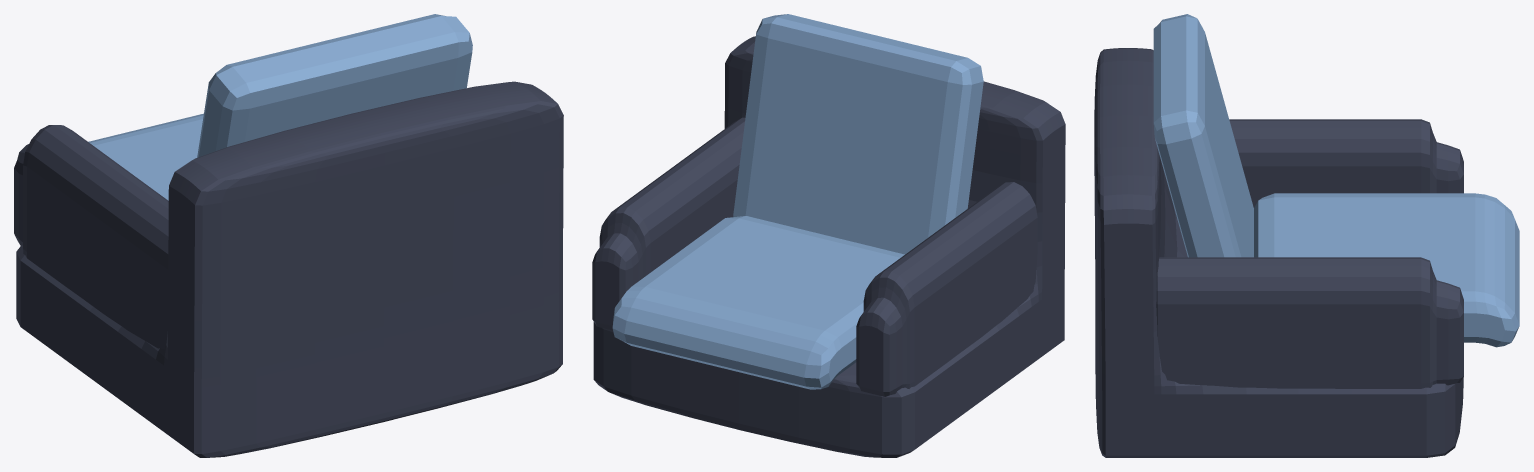
Rendered from Sofa kecil.fbx.
3 views of the same model, side by side, from view 1: azimuth 30°, elevation 25°; view 2: azimuth 150°, elevation 25°; view 3: azimuth 270°, elevation 25° (orthographic). The views are drawn at different scales.
Visible parts, largest first — view 1: Cube, Cube.003, Cube.006, Cube.005; view 2: Cube.006, Cube, Cube.005, Cube.003, Cube.002; view 3: Cube, Cube.002, Cube.005, Cube.006, Cube.003.
Part boxes in pixels (left/top/right/bottom): Cube: left=16, top=81, right=563, bottom=457; Cube.003: left=14, top=125, right=168, bottom=349; Cube.006: left=197, top=14, right=472, bottom=157; Cube.005: left=88, top=113, right=203, bottom=200; Cube.006: left=733, top=14, right=983, bottom=254; Cube: left=593, top=36, right=1065, bottom=457; Cube.005: left=612, top=216, right=904, bottom=389; Cube.003: left=856, top=182, right=1037, bottom=396; Cube.002: left=592, top=117, right=745, bottom=330; Cube: left=1094, top=48, right=1463, bottom=457; Cube.002: left=1156, top=257, right=1463, bottom=388; Cube.005: left=1254, top=193, right=1519, bottom=347; Cube.006: left=1153, top=14, right=1253, bottom=257; Cube.003: left=1229, top=119, right=1463, bottom=207.
Size of the model in its own units: 604 by 543 by 653.
